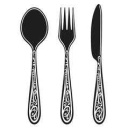fork: (52, 4, 83, 126)
